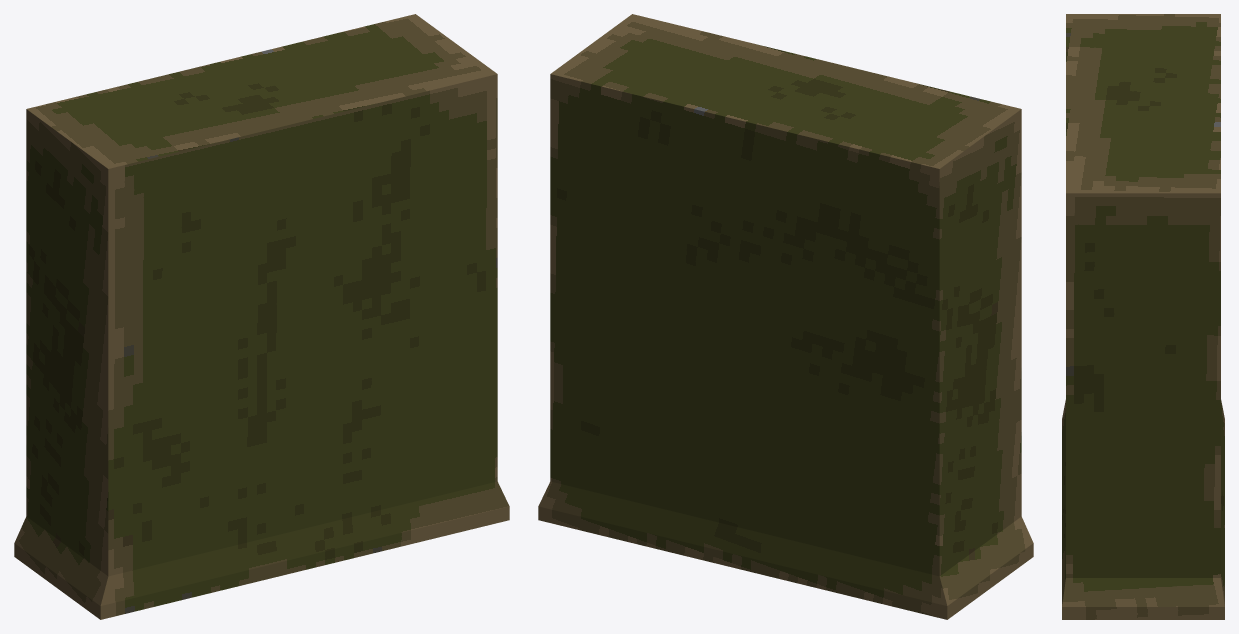
File: clutter_6.glb
The picture shows the model from 3 angles, left to right: view 1: azimuth 30°, elevation 25°; view 2: azimuth 150°, elevation 25°; view 3: azimuth 270°, elevation 25°; orthographic projection. The views are drawn at different scales.
Parts seen in each view (by area): view 1: clutter-tallbox; view 2: clutter-tallbox; view 3: clutter-tallbox.
Boxes of the visible parts, x1,y1,x2,y2 form: clutter-tallbox: [14, 14, 509, 619]; clutter-tallbox: [538, 14, 1033, 619]; clutter-tallbox: [1062, 14, 1224, 619].
Size of the model in its own units: 1.3 by 1.36 by 0.4762.
1 material, 1 textured.
